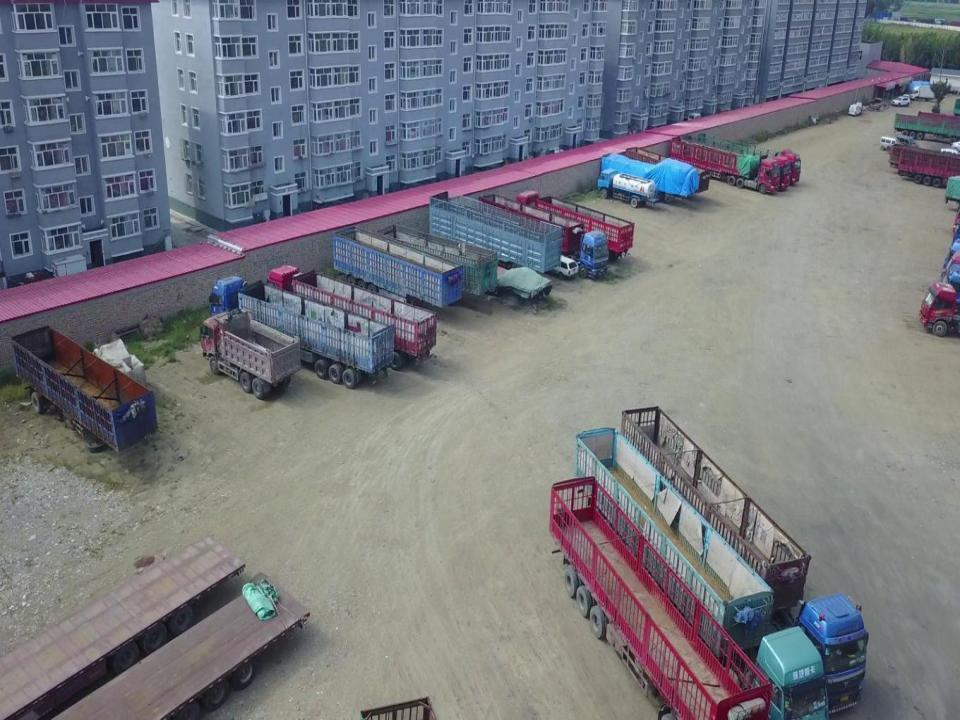car: (551, 250, 576, 278), (895, 135, 916, 147), (892, 95, 911, 106)
truck: (619, 401, 865, 704), (578, 432, 827, 720), (549, 472, 768, 720), (3, 532, 246, 720), (44, 571, 311, 720), (210, 276, 402, 390), (8, 325, 160, 458), (266, 264, 438, 369), (474, 186, 610, 282), (423, 190, 562, 282), (364, 220, 497, 312), (328, 229, 464, 318), (513, 190, 636, 273), (202, 314, 301, 396), (672, 135, 792, 191), (699, 125, 801, 184), (601, 154, 699, 206), (887, 138, 960, 175), (917, 281, 960, 334), (598, 168, 658, 205), (898, 150, 960, 182), (895, 111, 960, 141), (910, 87, 934, 100)
van: (879, 136, 898, 150)
